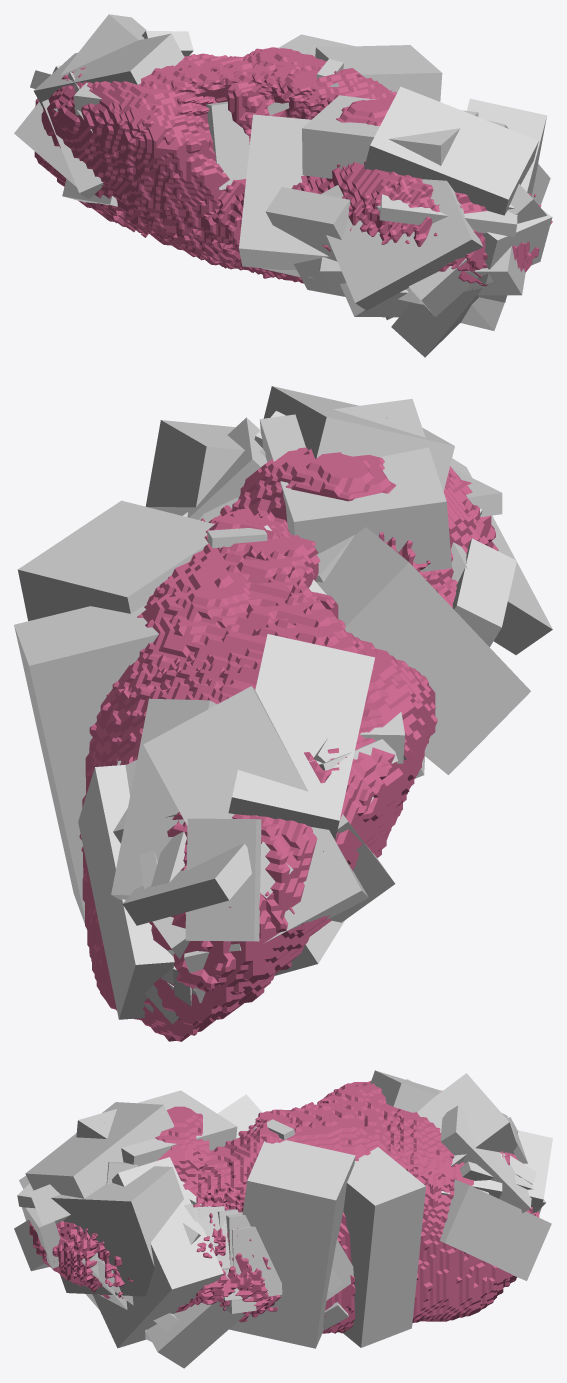
Rendered from non_hra_mapping.glb.
The picture shows the model from 3 angles, top to bottom: view 1: azimuth 30°, elevation 25°; view 2: azimuth 150°, elevation 25°; view 3: azimuth 270°, elevation 25°; orthographic projection. The views are drawn at different scales.
Parts seen in each view (by area): view 1: world; view 2: world; view 3: world.
Boxes of the visible parts, left/top/right/bottom form: world: left=14, top=14, right=552, bottom=357; world: left=14, top=386, right=552, bottom=1041; world: left=14, top=1070, right=552, bottom=1368.
Size of the model in its own units: 96.35 by 66.3 by 141.
